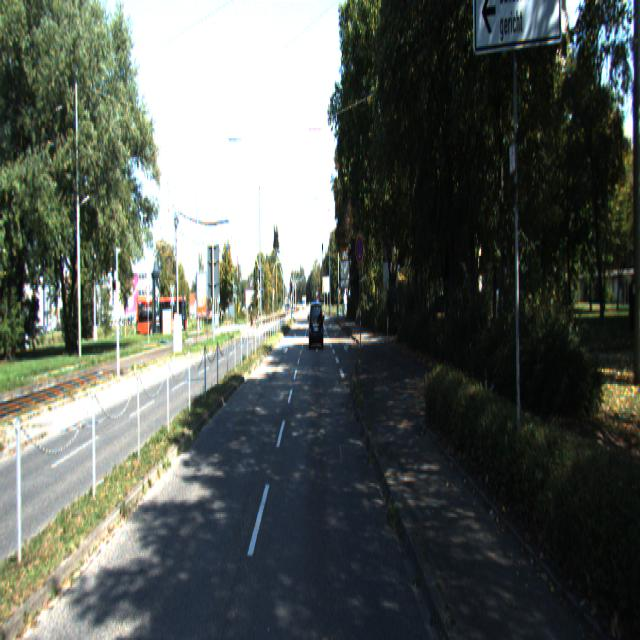Car: (309, 301, 324, 351)
